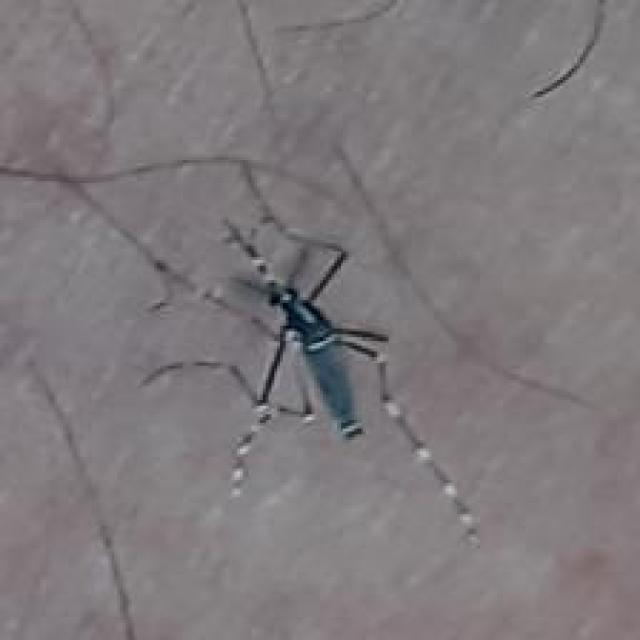Aedes albopictus: (137, 166, 483, 548)
